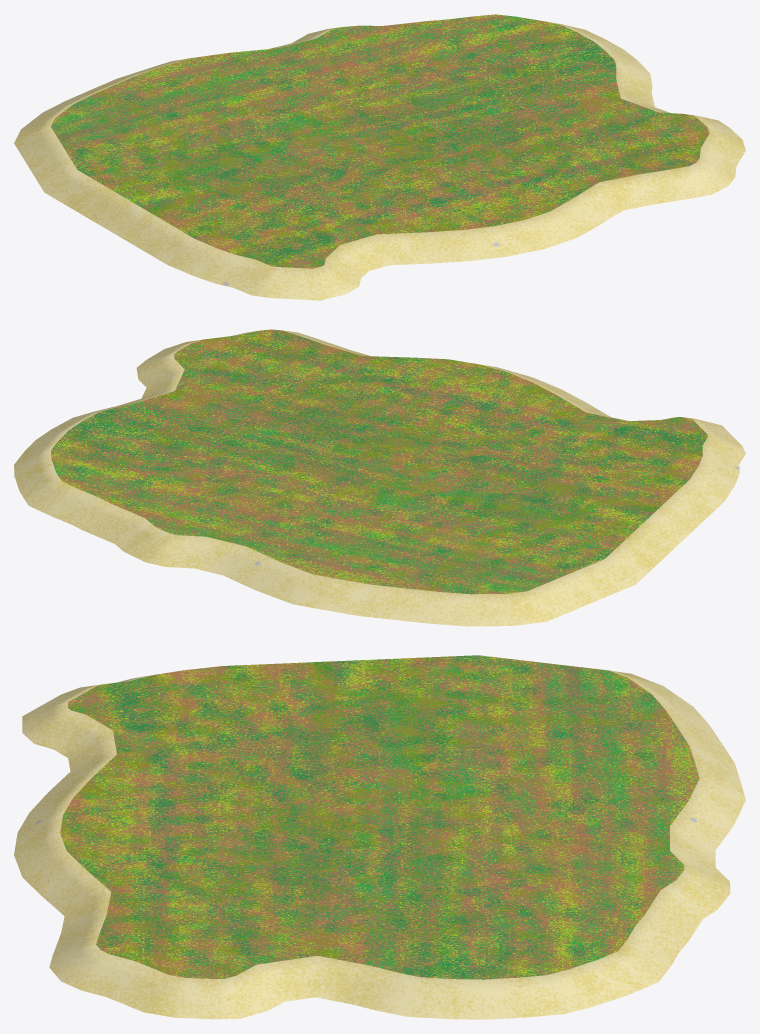
The model's file is mainisland_embeded.fbx.
3 renders of one model, top to bottom at view 1: azimuth 30°, elevation 25°; view 2: azimuth 150°, elevation 25°; view 3: azimuth 270°, elevation 25°, orthographic. The views are drawn at different scales.
Visible parts, largest first — view 1: mainisland; view 2: mainisland; view 3: mainisland.
Boxes of the visible parts, <box> form: mainisland: <box>14,14,745,300</box>; mainisland: <box>14,329,745,626</box>; mainisland: <box>14,655,745,1019</box>.
Size of the model in its own units: 56.22 by 1.5 by 47.86.
1 material, 1 textured.
